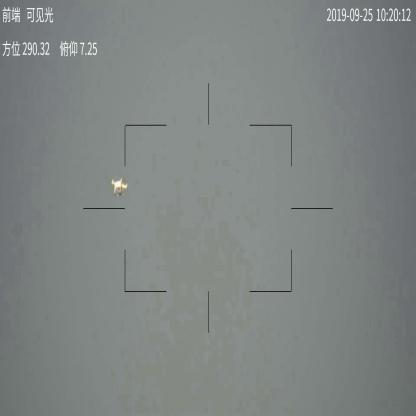uav: (111, 176, 128, 198)
